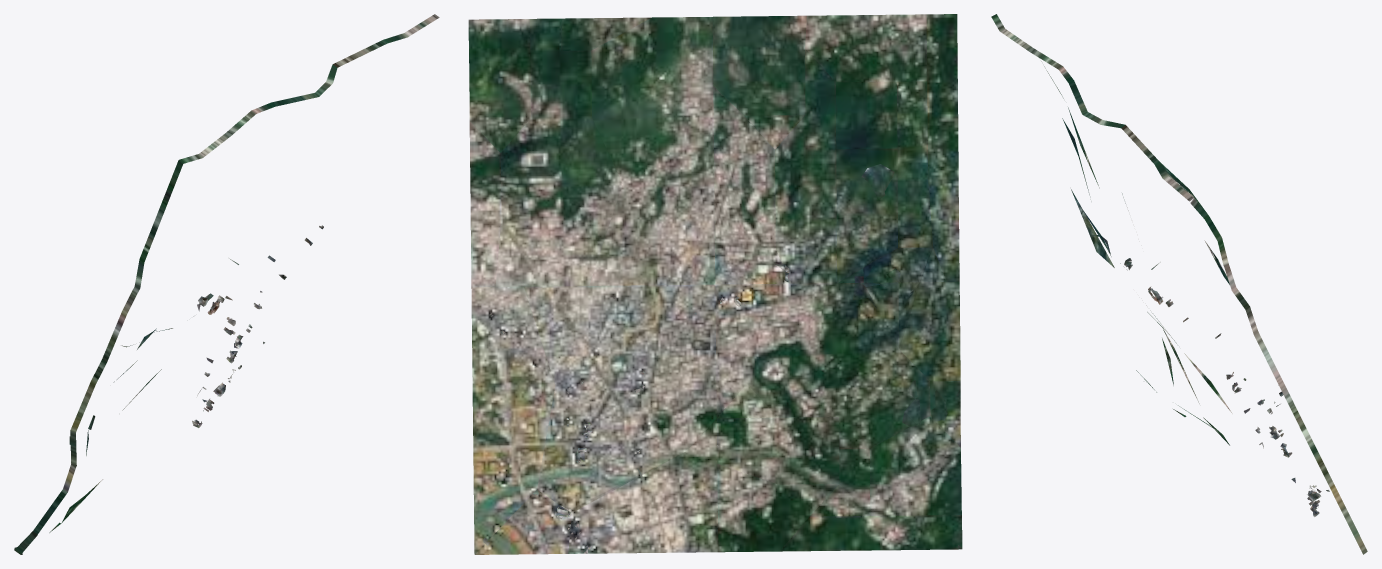
The picture shows the model from 3 angles, left to right: view 1: azimuth 30°, elevation 25°; view 2: azimuth 150°, elevation 25°; view 3: azimuth 270°, elevation 25°; orthographic projection. The views are drawn at different scales.
Bounding box in the file's own units: 4960 × 4642 × 3791.
Materials: 1 (1 with a texture image).
